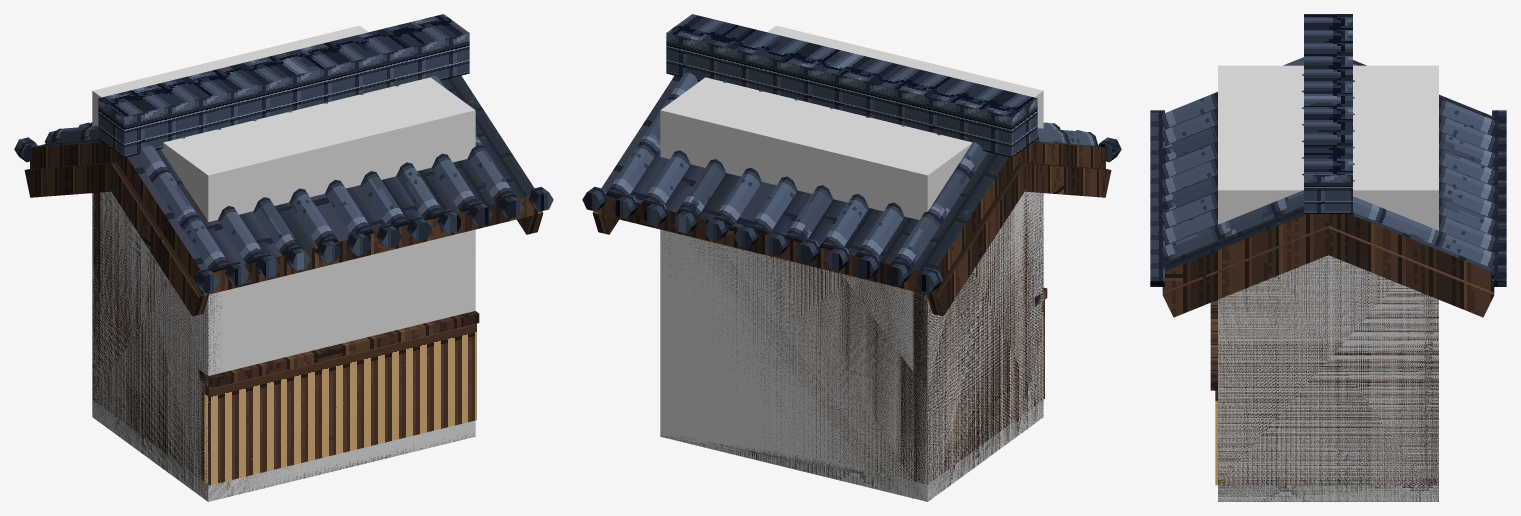
Rendered from JP_Rich_GuardBooth_A.glb.
The picture shows the model from 3 angles, left to right: view 1: azimuth 30°, elevation 25°; view 2: azimuth 150°, elevation 25°; view 3: azimuth 270°, elevation 25°; orthographic projection. The views are drawn at different scales.
Parts seen in each view (by area): view 1: JP_Rich_GuardBooth_A, COL_JP_Rich_GuardBooth_A; view 2: JP_Rich_GuardBooth_A, COL_JP_Rich_GuardBooth_A; view 3: JP_Rich_GuardBooth_A, COL_JP_Rich_GuardBooth_A.
Boxes of the visible parts, x1,y1,x2,y2 form: JP_Rich_GuardBooth_A: (14, 14, 553, 501); COL_JP_Rich_GuardBooth_A: (92, 25, 475, 501); JP_Rich_GuardBooth_A: (582, 14, 1121, 501); COL_JP_Rich_GuardBooth_A: (660, 25, 1043, 501); JP_Rich_GuardBooth_A: (1150, 14, 1506, 501); COL_JP_Rich_GuardBooth_A: (1218, 65, 1438, 501).
Size of the model in its own units: 3.17 by 3.1 by 2.9.
7 materials, 7 textured.
